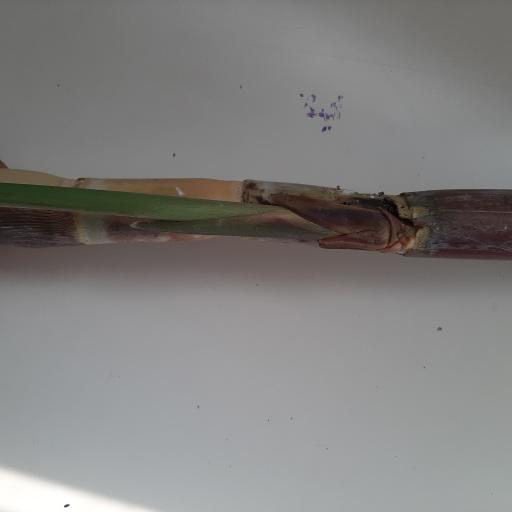Sprouted_Bud: (287, 218, 416, 253)
